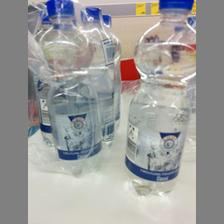Wasser: (126, 0, 194, 196), (39, 0, 100, 176)
